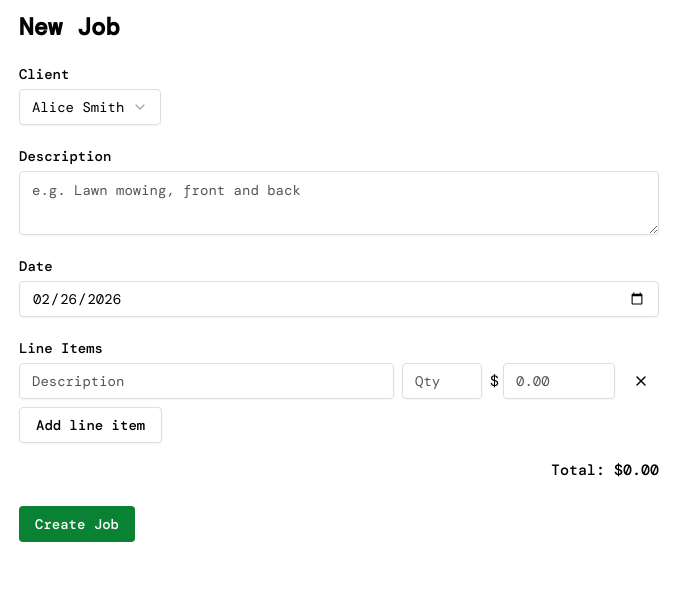
Test case: JobNew page › shows error when job insert fails
Expected: the dropdown is shown, x1=19 y1=89 x2=161 y2=125
Type "Mowing" into the field with placeholder "Description" at (206, 381), box x1=19 y1=363 x2=394 y2=399
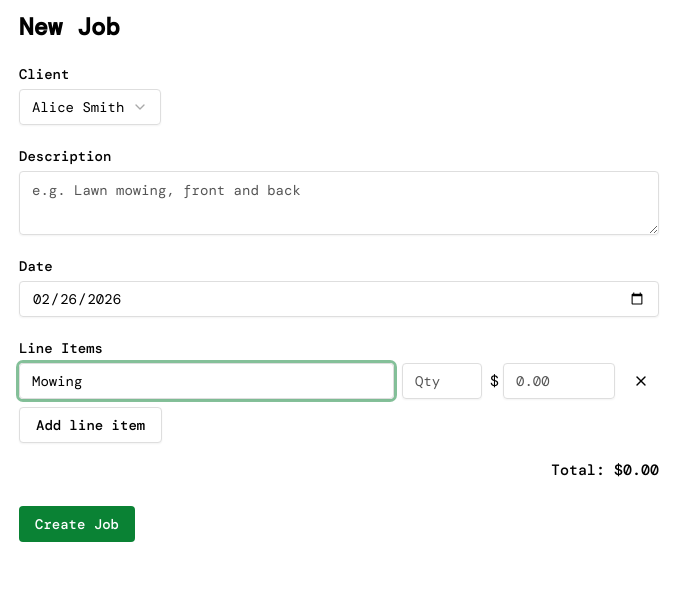
Type "75" into the number field with placeholder "0.00" at (559, 381), box x1=503 y1=363 x2=615 y2=399
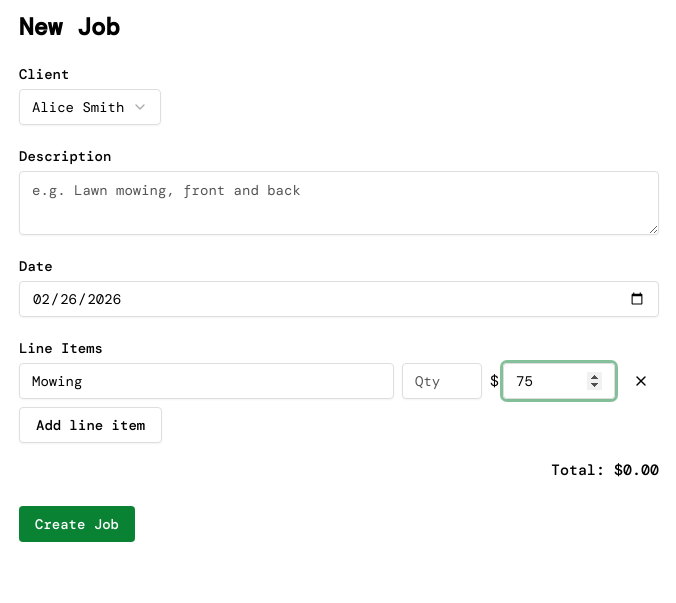
Click the button "Create Job" at (77, 524), box x1=19 y1=506 x2=135 y2=542
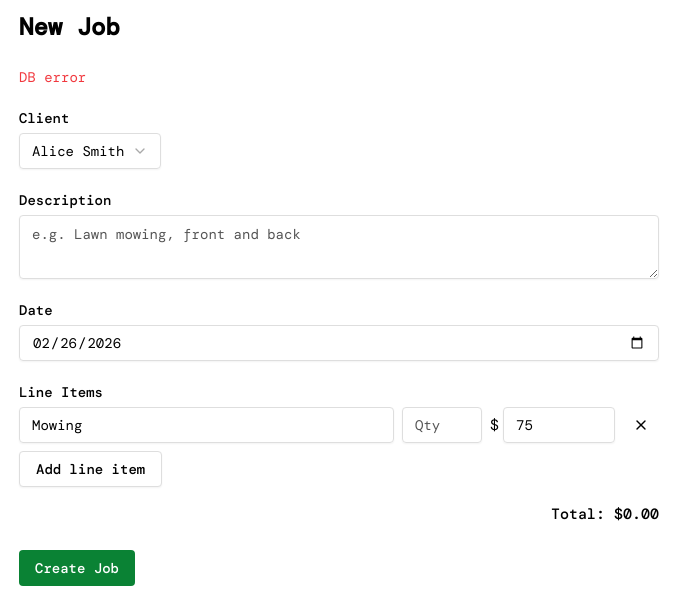
Expected: the message "DB error" is shown, x1=19 y1=68 x2=86 y2=86
